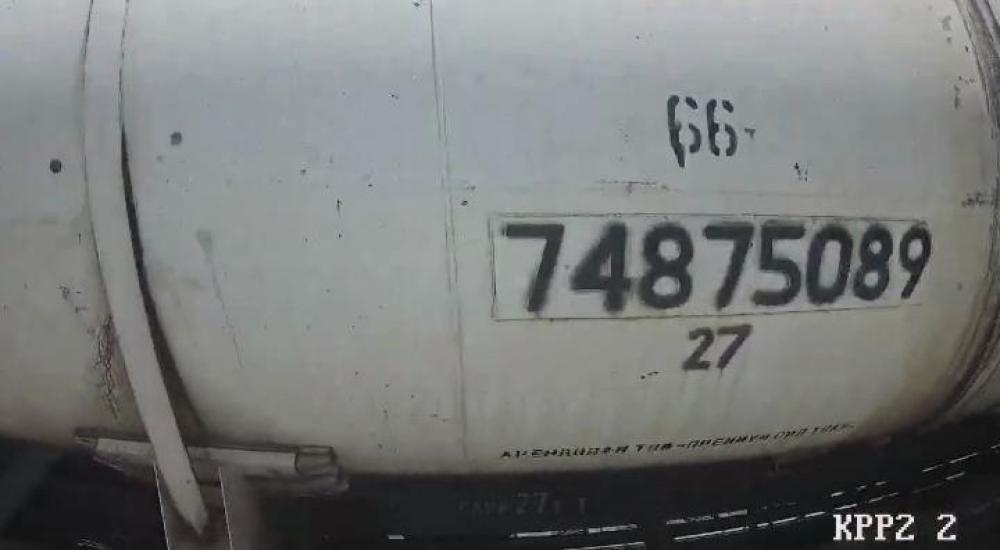Wagon-number: (494, 216, 937, 315)
